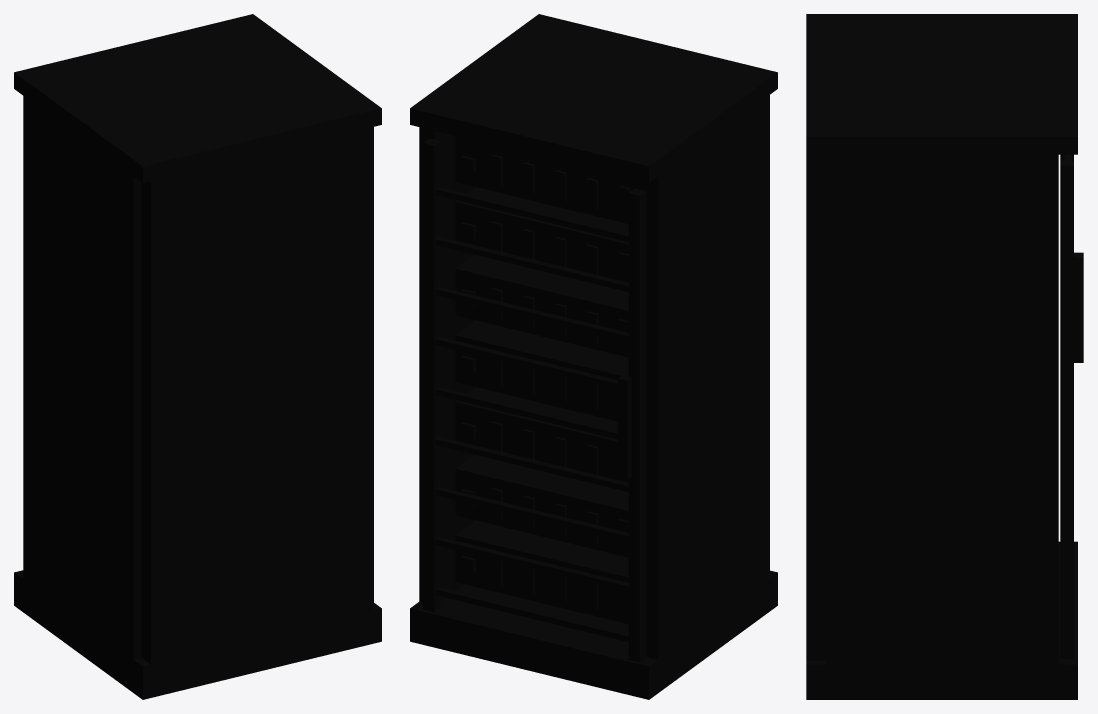
The model's file is lab_server_rack.obj.
3 renders of one model, left to right at view 1: azimuth 30°, elevation 25°; view 2: azimuth 150°, elevation 25°; view 3: azimuth 270°, elevation 25°, orthographic. The views are drawn at different scales.
Size of the model in its own units: 0.4102 by 0.875 by 0.391.
